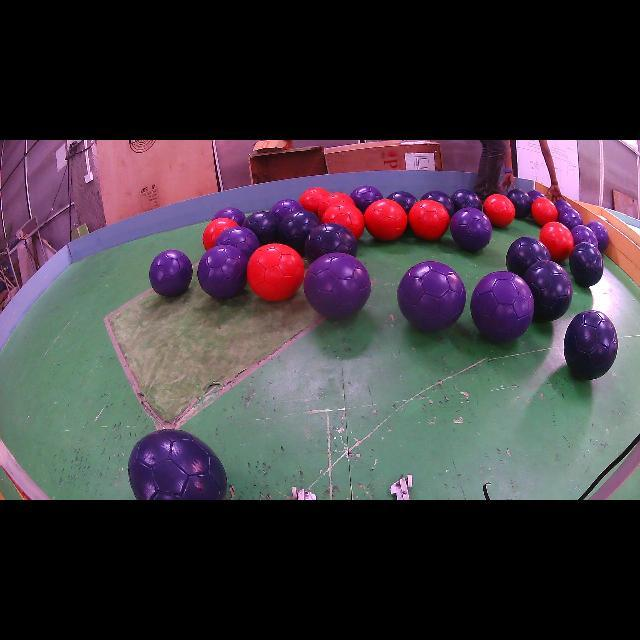B: (128, 430, 228, 500), (564, 310, 618, 380), (522, 259, 572, 321), (305, 222, 358, 261), (278, 210, 321, 255), (506, 236, 551, 277), (569, 242, 604, 286), (242, 211, 279, 245), (421, 190, 455, 218), (506, 189, 532, 218), (388, 191, 418, 214), (451, 189, 482, 211)
P: (398, 261, 466, 331), (470, 271, 534, 342), (304, 252, 371, 319), (198, 245, 248, 299), (150, 250, 192, 296), (450, 208, 492, 251), (214, 226, 260, 259), (350, 185, 384, 214), (269, 199, 304, 221), (586, 221, 610, 252), (571, 225, 599, 248), (212, 208, 245, 226), (558, 208, 584, 230), (554, 200, 572, 214), (528, 190, 545, 201)
R: (248, 244, 305, 301), (364, 199, 408, 240), (409, 200, 450, 240), (321, 202, 365, 239), (540, 221, 574, 261), (202, 218, 238, 249), (484, 194, 515, 228), (318, 192, 355, 219), (299, 188, 329, 214), (531, 198, 558, 226)
